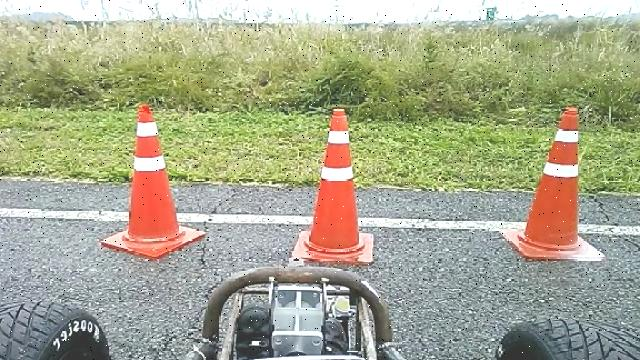red cone: (500, 104, 607, 260), (100, 103, 207, 259), (290, 106, 376, 264)
